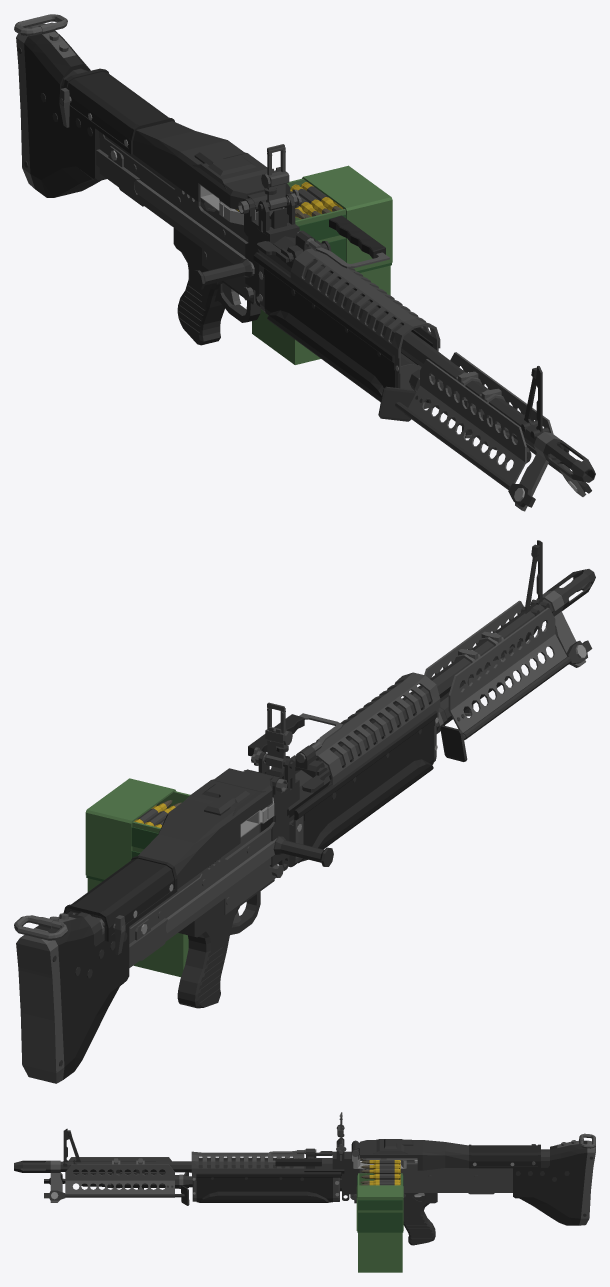
3 views of the same model, one above another, from view 1: azimuth 30°, elevation 25°; view 2: azimuth 150°, elevation 25°; view 3: azimuth 270°, elevation 25° (orthographic). The views are drawn at different scales.
Visible parts, largest first — view 1: M60 1, M60 1 Top Cover 1, M60 1 Bipod Leg 1, M60 1 Ammo Box 1, M60 1 Charging Handle 1, M60 1 Carry Handle 1, M60 1 Bipod Leg 1.001, M60 1 Rearsight 1, M60 1 Part 2, M60 1 Feed Tray; view 2: M60 1, M60 1 Top Cover 1, M60 1 Bipod Leg 1, M60 1 Ammo Box 1, M60 1 Charging Handle 1, M60 1 Bipod Leg 1.001, M60 1 Carry Handle 1, M60 1 Rearsight 1, M60 1 Part 2; view 3: M60 1, M60 1 Top Cover 1, M60 1 Ammo Box 1, M60 1 Bipod Leg 1.001, M60 1 Bipod Leg 1, M60 1 Carry Handle 1.
Part boxes in pixels (<box>): M60 1: <box>16,22,595,511</box>; M60 1 Top Cover 1: <box>63,68,290,213</box>; M60 1 Bipod Leg 1: <box>378,359,535,507</box>; M60 1 Ammo Box 1: <box>252,165,392,364</box>; M60 1 Charging Handle 1: <box>134,179,254,289</box>; M60 1 Carry Handle 1: <box>296,215,389,268</box>; M60 1 Bipod Leg 1.001: <box>448,352,591,493</box>; M60 1 Rearsight 1: <box>258,144,301,210</box>; M60 1 Part 2: <box>14,14,67,36</box>; M60 1 Feed Tray: <box>200,184,284,225</box>; M60 1: <box>16,540,595,1083</box>; M60 1 Top Cover 1: <box>63,768,287,941</box>; M60 1 Bipod Leg 1: <box>440,607,592,761</box>; M60 1 Ammo Box 1: <box>85,778,190,977</box>; M60 1 Charging Handle 1: <box>166,836,333,932</box>; M60 1 Bipod Leg 1.001: <box>424,600,528,678</box>; M60 1 Carry Handle 1: <box>248,713,342,762</box>; M60 1 Rearsight 1: <box>251,702,294,768</box>; M60 1 Part 2: <box>14,915,67,940</box>; M60 1: <box>14,1128,595,1245</box>; M60 1 Top Cover 1: <box>351,1139,540,1170</box>; M60 1 Ammo Box 1: <box>356,1173,403,1272</box>; M60 1 Bipod Leg 1.001: <box>44,1164,189,1205</box>; M60 1 Bipod Leg 1: <box>44,1157,188,1184</box>; M60 1 Carry Handle 1: <box>268,1149,321,1166</box>.
Bounding box in the file's own units: 0.2174 × 0.2591 × 1.06.
